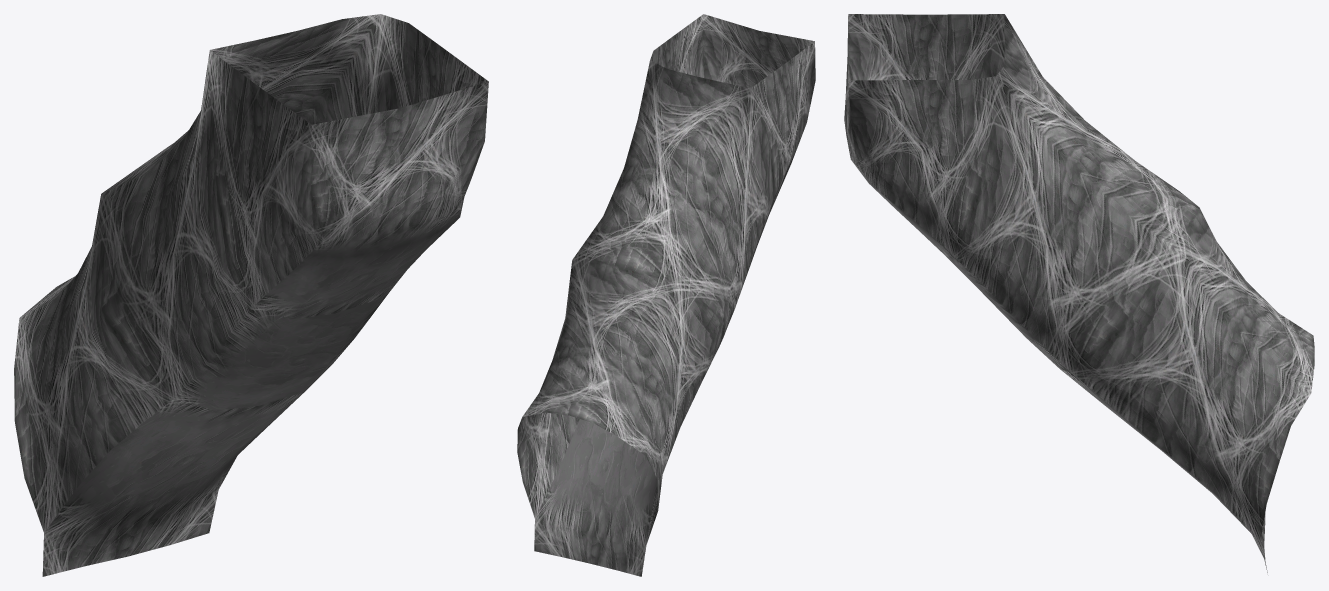
File: SWORDLIGHT20_PS-AREA01_09.obj
3 views of the same model, side by side, from view 1: azimuth 30°, elevation 25°; view 2: azimuth 150°, elevation 25°; view 3: azimuth 270°, elevation 25° (orthographic). The views are drawn at different scales.
Visible parts, largest first — view 1: PS-Area01_09; view 2: PS-Area01_09; view 3: PS-Area01_09.
Boxes of the visible parts, x1,y1,x2,y2 form: PS-Area01_09: (14, 14, 488, 576); PS-Area01_09: (517, 14, 815, 576); PS-Area01_09: (844, 14, 1314, 572).
Size of the model in its own units: 762 by 2113 by 1803.
